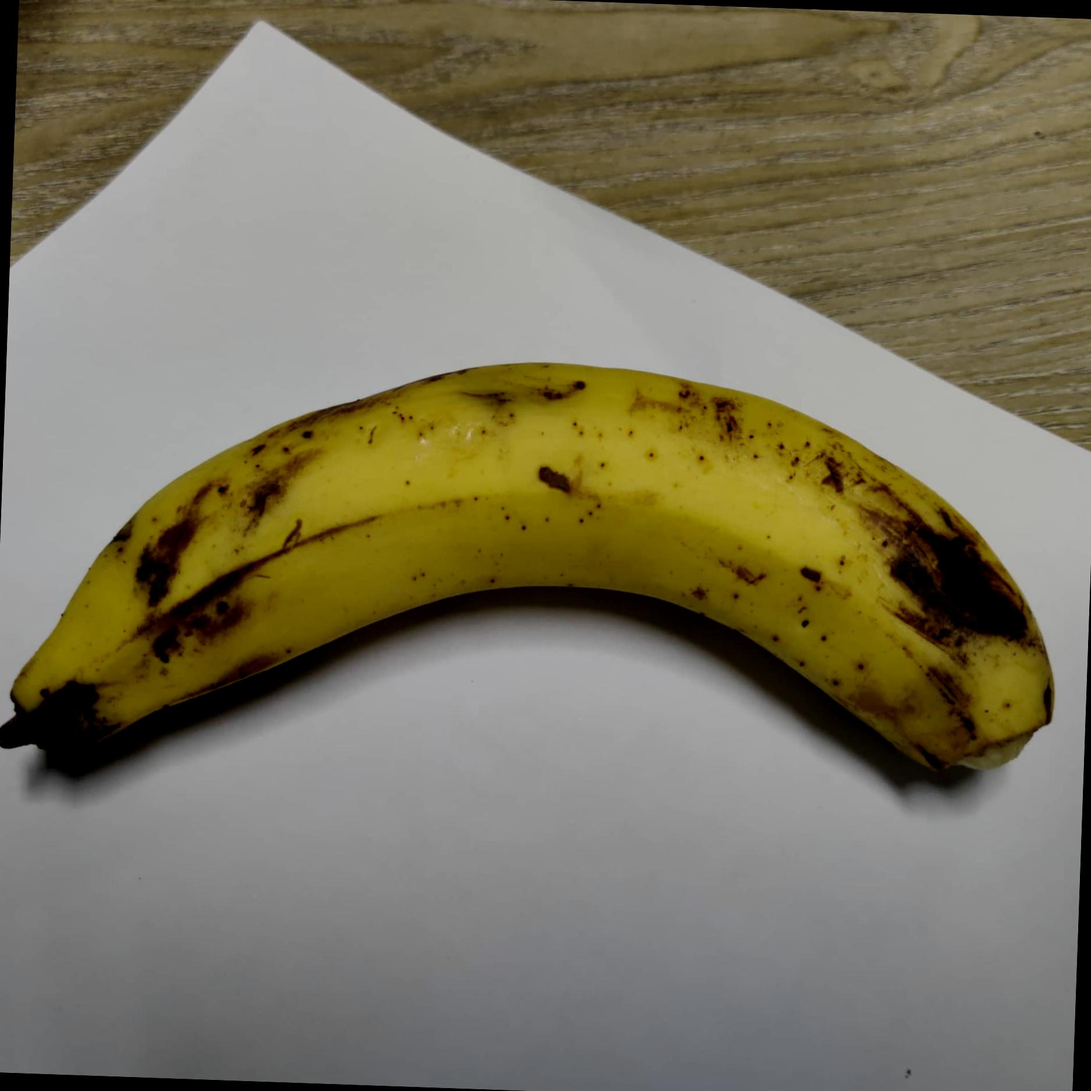Banana Ripe: (0, 323, 1091, 943)
